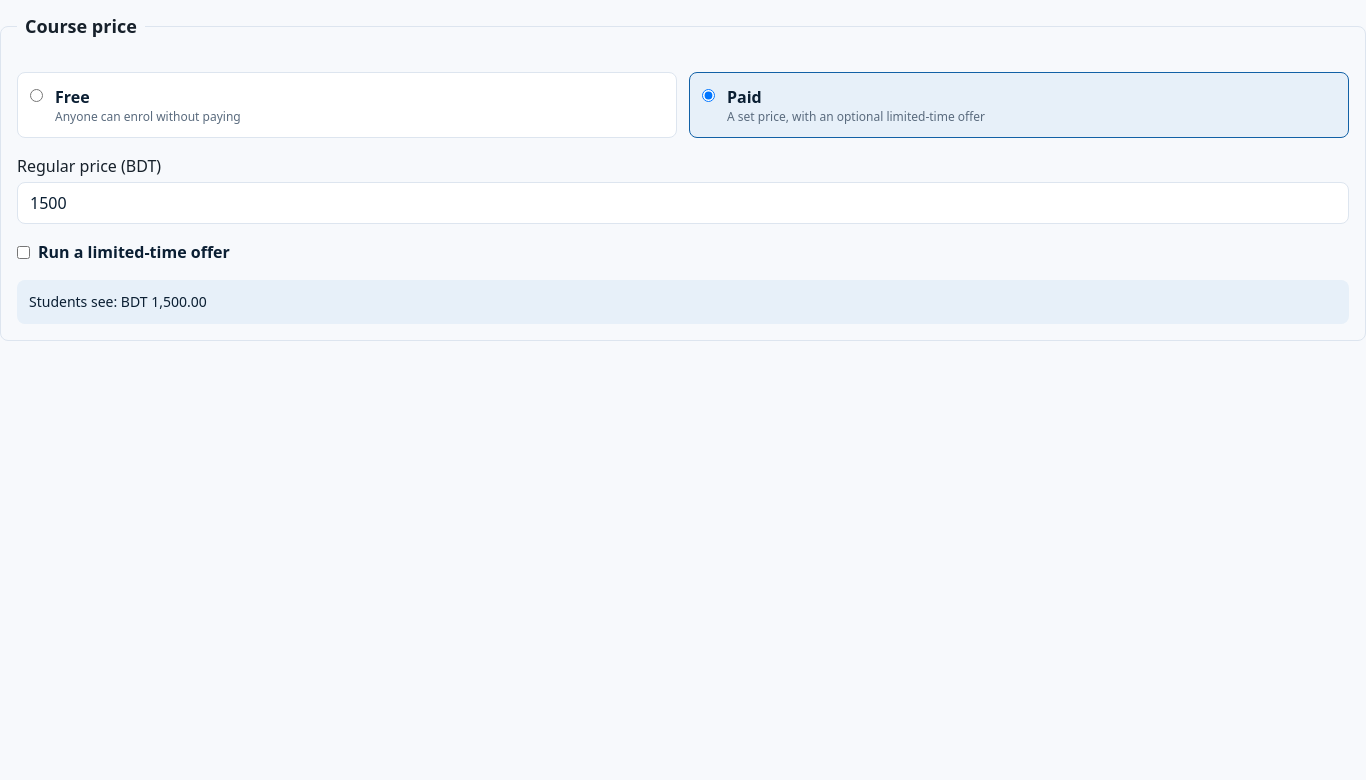
Scenario: CoursePricingFields › sets a regular price with a 50% offer that ends in 72 hours
This screenshot has width=1366, height=780.
Replace the text in the number field labelled "Regular price (BDT)" with "10000". click: (683, 203)
box: [17,182,1349,224]
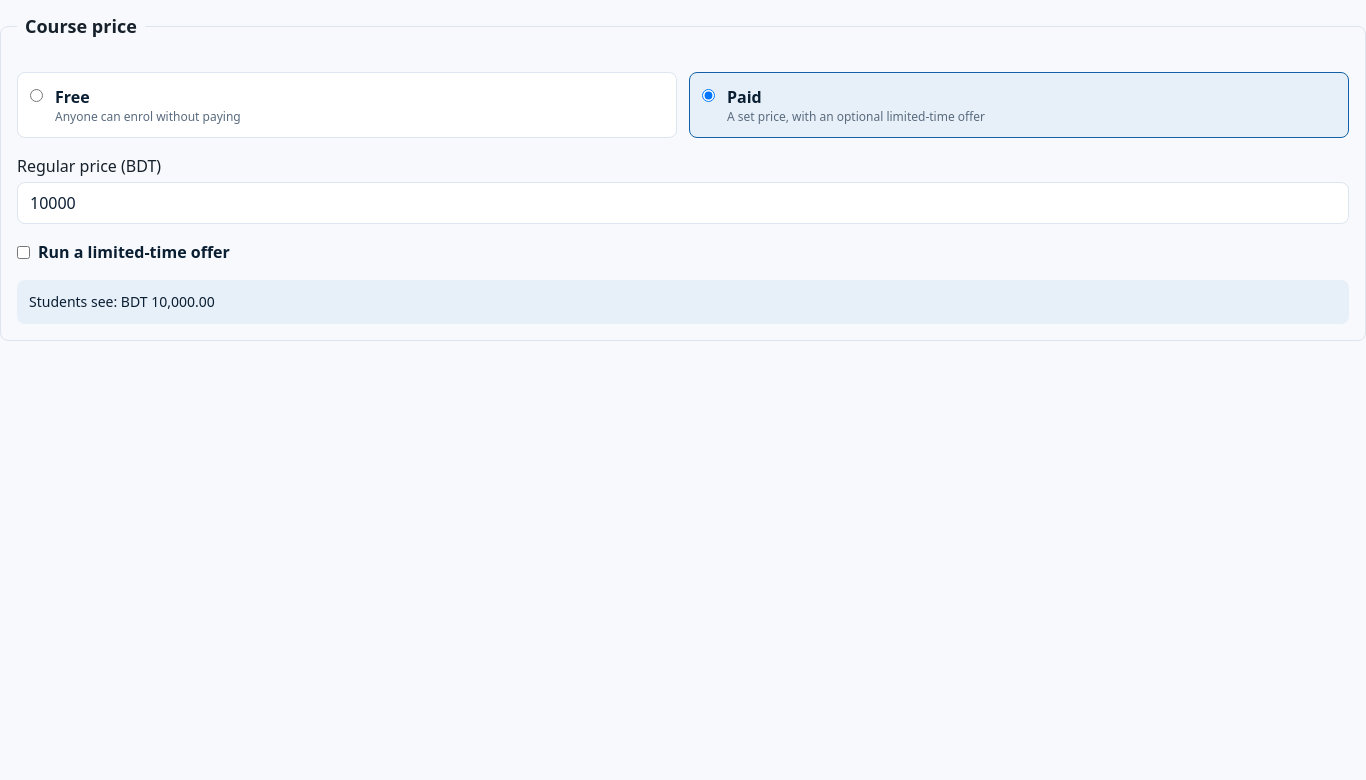
Click the checkbox labelled "Run a limited-time offer". click: (24, 252)
box: [17,246,30,258]
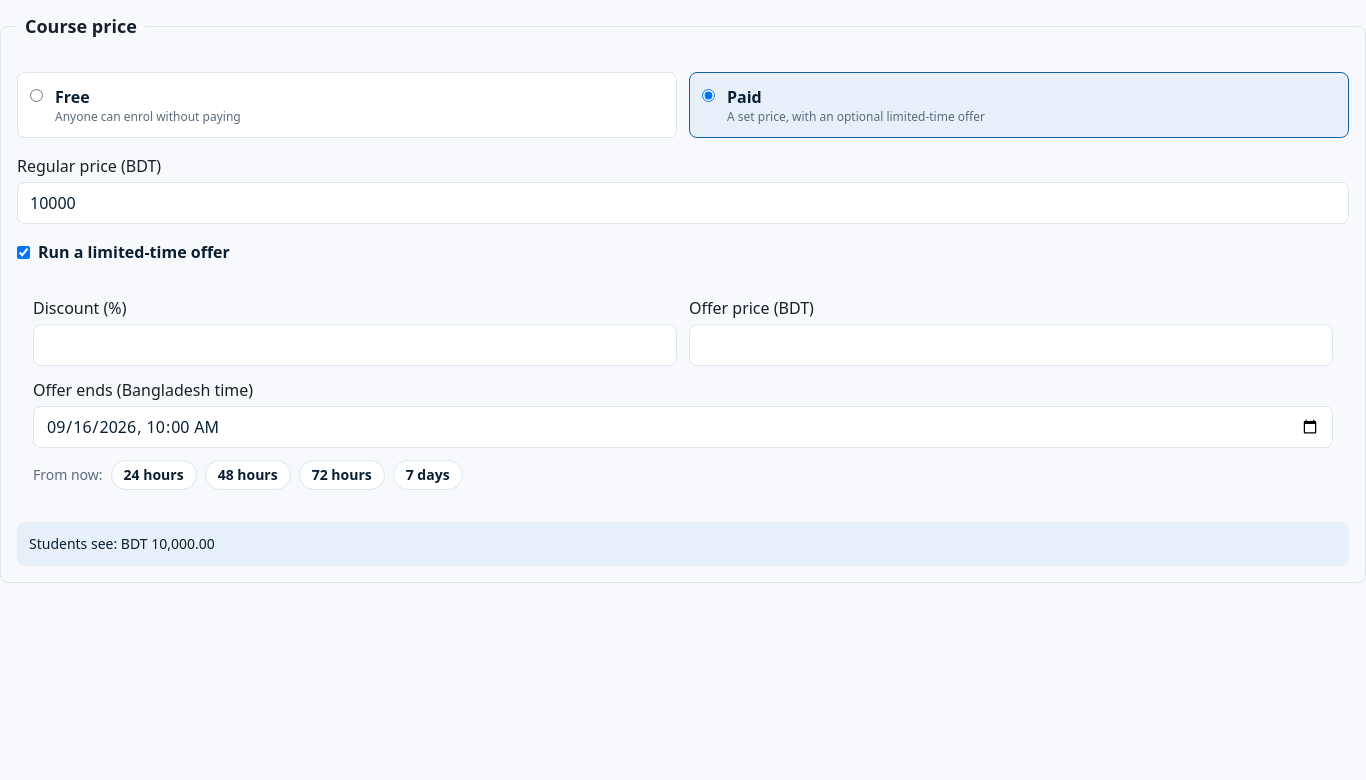
Check: the field labelled "Offer ends (Bangladesh time)" holds "2026-09-16T10:00", box [33,406,1333,448]
Type "50" into the number field labelled "Discount (%)". click: (355, 345)
box: [33,324,677,366]
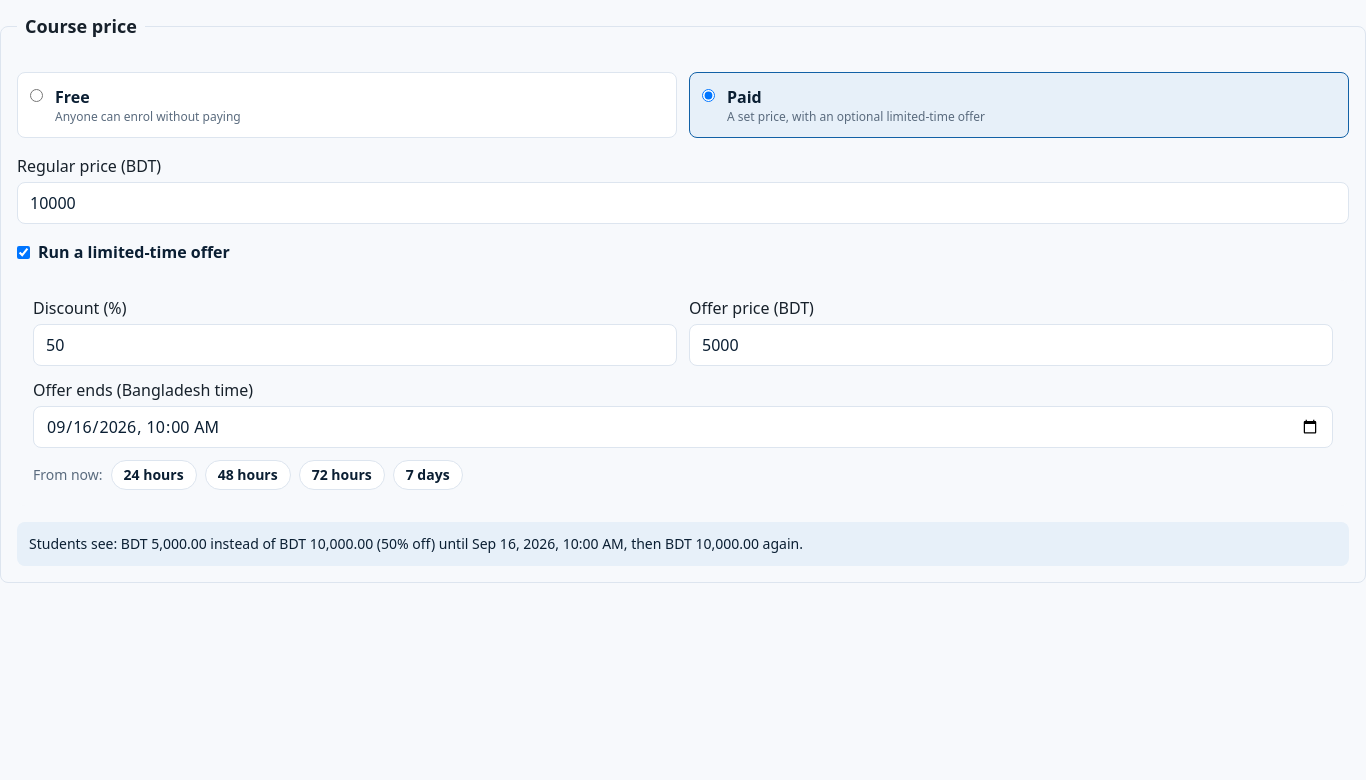
Check: the number field labelled "Offer price (BDT)" holds "5000", box [689,324,1333,366]
Check: the text "Students see:" shows "50% off", box [29,534,803,553]
